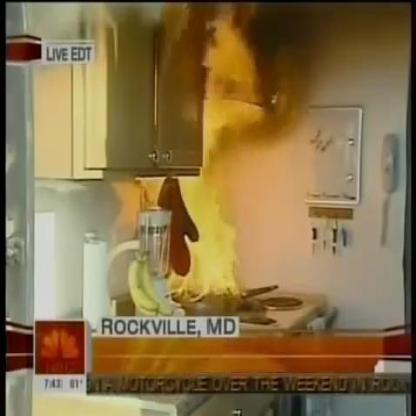fire: (136, 12, 278, 302)
